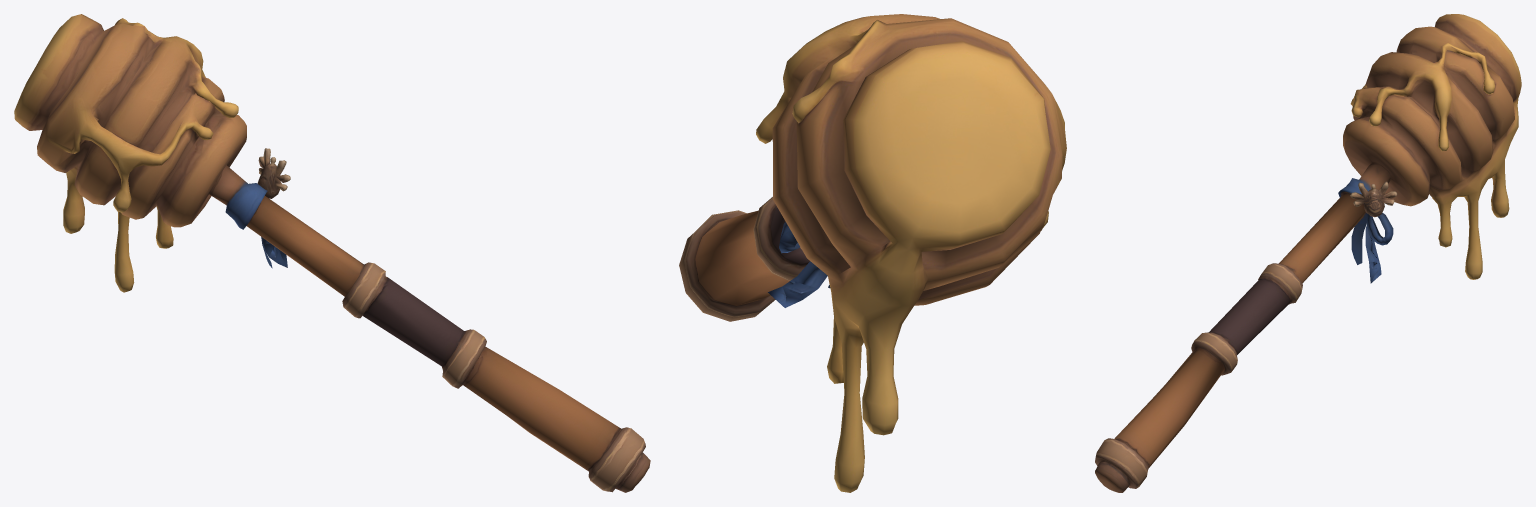
Rendered from scribe_dipper_tripo.glb.
The picture shows the model from 3 angles, left to right: view 1: azimuth 30°, elevation 25°; view 2: azimuth 150°, elevation 25°; view 3: azimuth 270°, elevation 25°; orthographic projection. The views are drawn at different scales.
Parts seen in each view (by area): view 1: tripo_node_d2bad689-e00d-44f1-9743-24258586f2b3; view 2: tripo_node_d2bad689-e00d-44f1-9743-24258586f2b3; view 3: tripo_node_d2bad689-e00d-44f1-9743-24258586f2b3.
Part boxes in pixels (<box>): tripo_node_d2bad689-e00d-44f1-9743-24258586f2b3: <box>14,14,650,492</box>; tripo_node_d2bad689-e00d-44f1-9743-24258586f2b3: <box>679,14,1066,492</box>; tripo_node_d2bad689-e00d-44f1-9743-24258586f2b3: <box>1095,14,1521,492</box>.
Size of the model in its own units: 0.9551 by 0.8652 by 0.998.
1 material, 1 textured.
